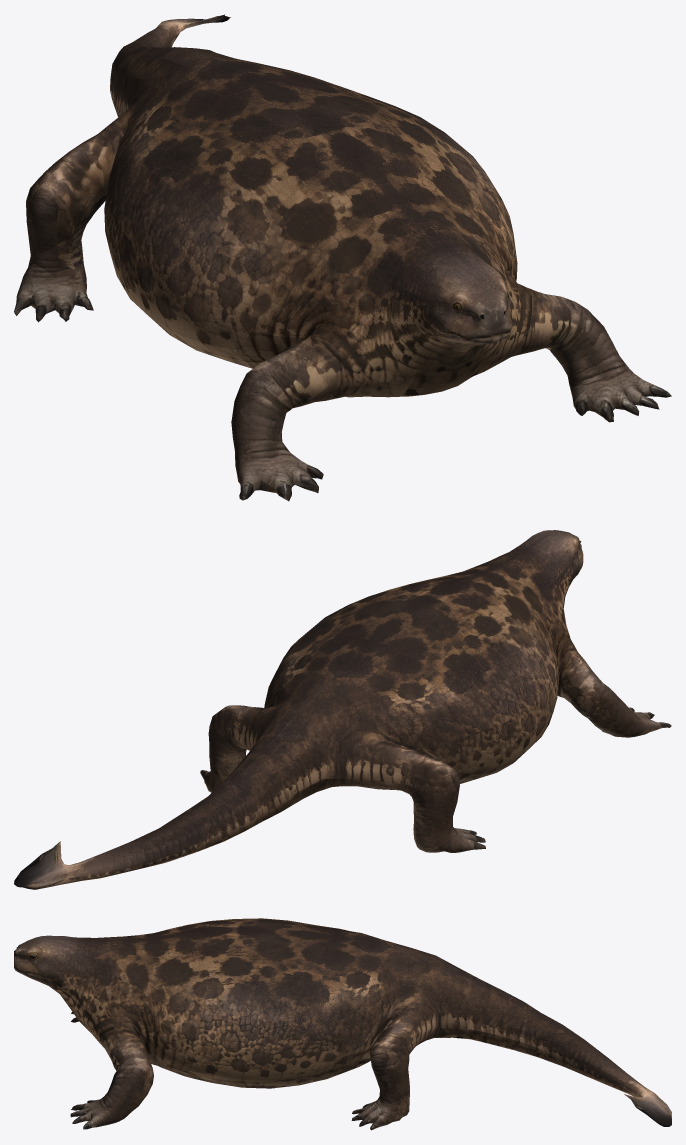
File: CRT-022.glb
3 views of the same model, one above another, from view 1: azimuth 30°, elevation 25°; view 2: azimuth 150°, elevation 25°; view 3: azimuth 270°, elevation 25° (orthographic). The views are drawn at different scales.
Parts seen in each view (by area): view 1: mesh_node; view 2: mesh_node; view 3: mesh_node.
Boxes of the visible parts, x1=… form: mesh_node: x1=14, y1=14, x2=671, y2=501; mesh_node: x1=14, y1=530, x2=671, y2=889; mesh_node: x1=14, y1=918, x2=671, y2=1130.
Size of the model in its own units: 0.4893 by 0.2329 by 1.
Materials: 1 (1 with a texture image).
